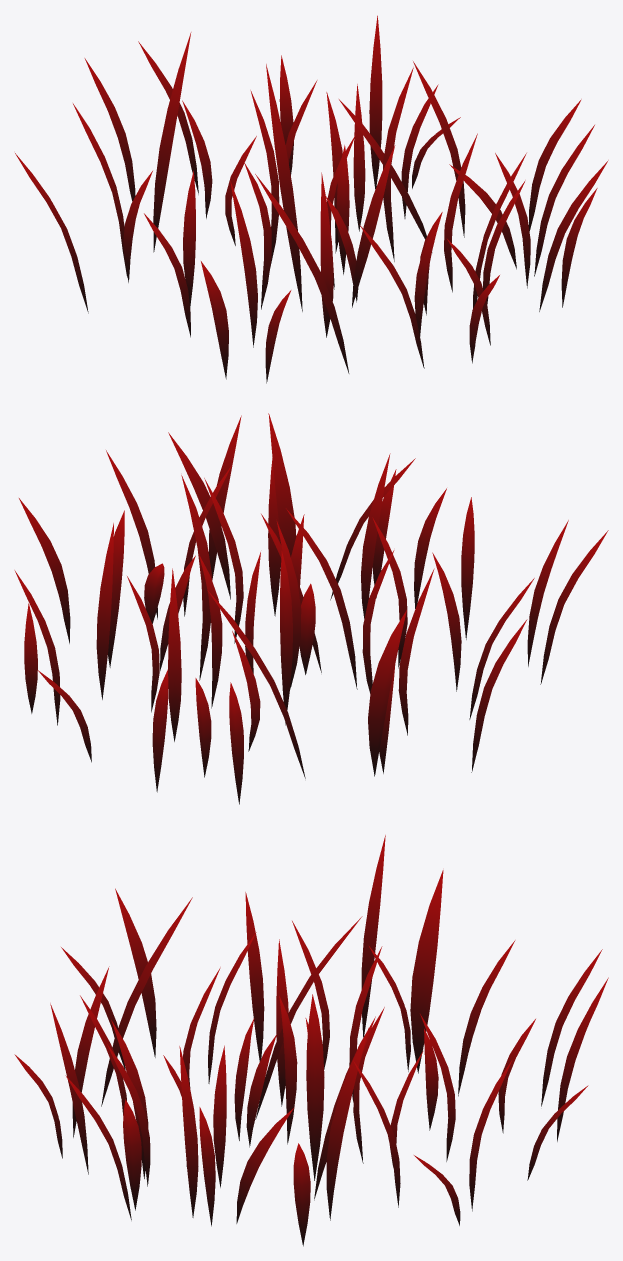
File: Grass.fbx
3 renders of one model, top to bottom at view 1: azimuth 30°, elevation 25°; view 2: azimuth 150°, elevation 25°; view 3: azimuth 270°, elevation 25°, orthographic. The views are drawn at different scales.
Parts seen in each view (by area): view 1: pPlane47, pPlane25, pPlane19, pPlane23, pPlane44, pPlane46, pPlane35, pPlane34, pPlane37, pPlane8, pPlane45, pPlane30 (+30 smaller); view 2: pPlane24, pPlane27, pPlane49, pPlane21, pPlane38, pPlane45, pPlane37, pPlane22, pPlane23, pPlane13, pPlane47, pPlane20 (+31 smaller); view 3: pPlane24, pPlane37, pPlane20, pPlane11, pPlane18, pPlane29, pPlane8, pPlane23, pPlane32, pPlane45, pPlane36, pPlane13 (+30 smaller).
Boxes of the visible parts, x1,y1,x2,y2 form: pPlane47: [266, 64, 302, 311]; pPlane25: [153, 32, 191, 252]; pPlane19: [369, 15, 382, 189]; pPlane23: [255, 174, 349, 373]; pPlane44: [352, 145, 395, 307]; pPlane46: [230, 181, 257, 347]; pPlane35: [320, 172, 333, 337]; pPlane34: [183, 170, 195, 307]; pPlane37: [383, 67, 413, 261]; pPlane8: [201, 261, 228, 379]; pPlane45: [539, 160, 608, 311]; pPlane30: [353, 84, 365, 231]; pPlane24: [368, 610, 406, 776]; pPlane27: [96, 523, 113, 699]; pPlane49: [168, 568, 181, 741]; pPlane21: [268, 413, 296, 557]; pPlane38: [280, 551, 292, 725]; pPlane45: [168, 432, 230, 599]; pPlane37: [181, 475, 212, 680]; pPlane22: [361, 453, 390, 618]; pPlane23: [461, 497, 474, 639]; pPlane13: [19, 498, 70, 643]; pPlane47: [286, 508, 357, 689]; pPlane20: [108, 510, 124, 667]; pPlane24: [410, 870, 443, 1073]; pPlane37: [306, 994, 324, 1180]; pPlane20: [326, 1028, 368, 1220]; pPlane11: [361, 835, 385, 1037]; pPlane18: [245, 892, 264, 1061]; pPlane29: [179, 1046, 198, 1217]; pPlane8: [115, 888, 156, 1057]; pPlane23: [101, 897, 192, 1106]; pPlane32: [213, 1045, 226, 1187]; pPlane45: [123, 1099, 141, 1210]; pPlane36: [279, 996, 297, 1144]; pPlane13: [293, 1143, 310, 1246].
Size of the model in its own units: 7.11 by 2.7 by 6.79.
